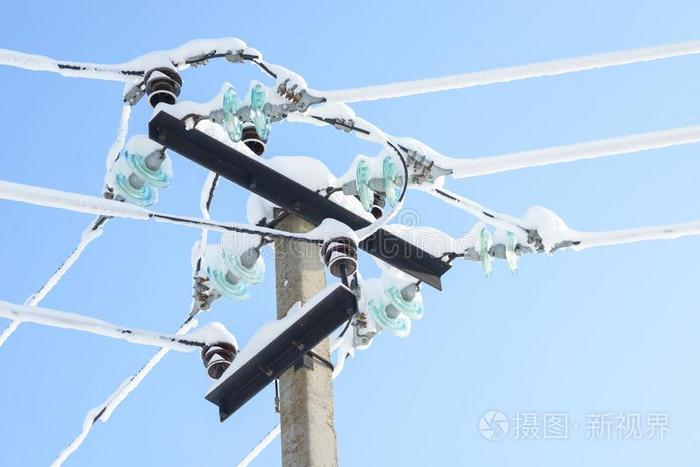insulator: (200, 234, 265, 300), (106, 141, 170, 204), (364, 274, 421, 333), (219, 82, 269, 142), (353, 157, 406, 210), (474, 226, 521, 282)
